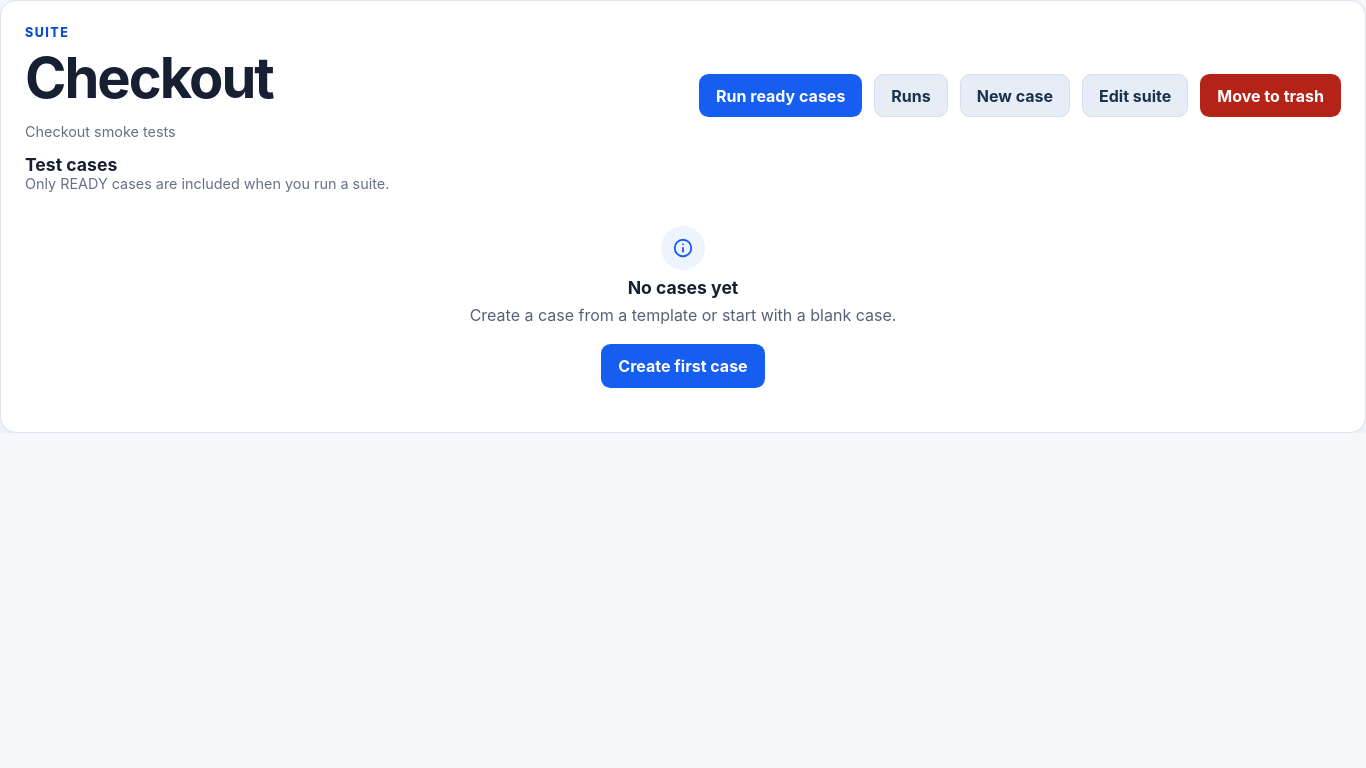
suite recovery surfaces › shows distinct execution_queue_full guidance when a suite run cannot queue
Click the button "Run ready cases" at (781, 96), box [699,74,862,118]
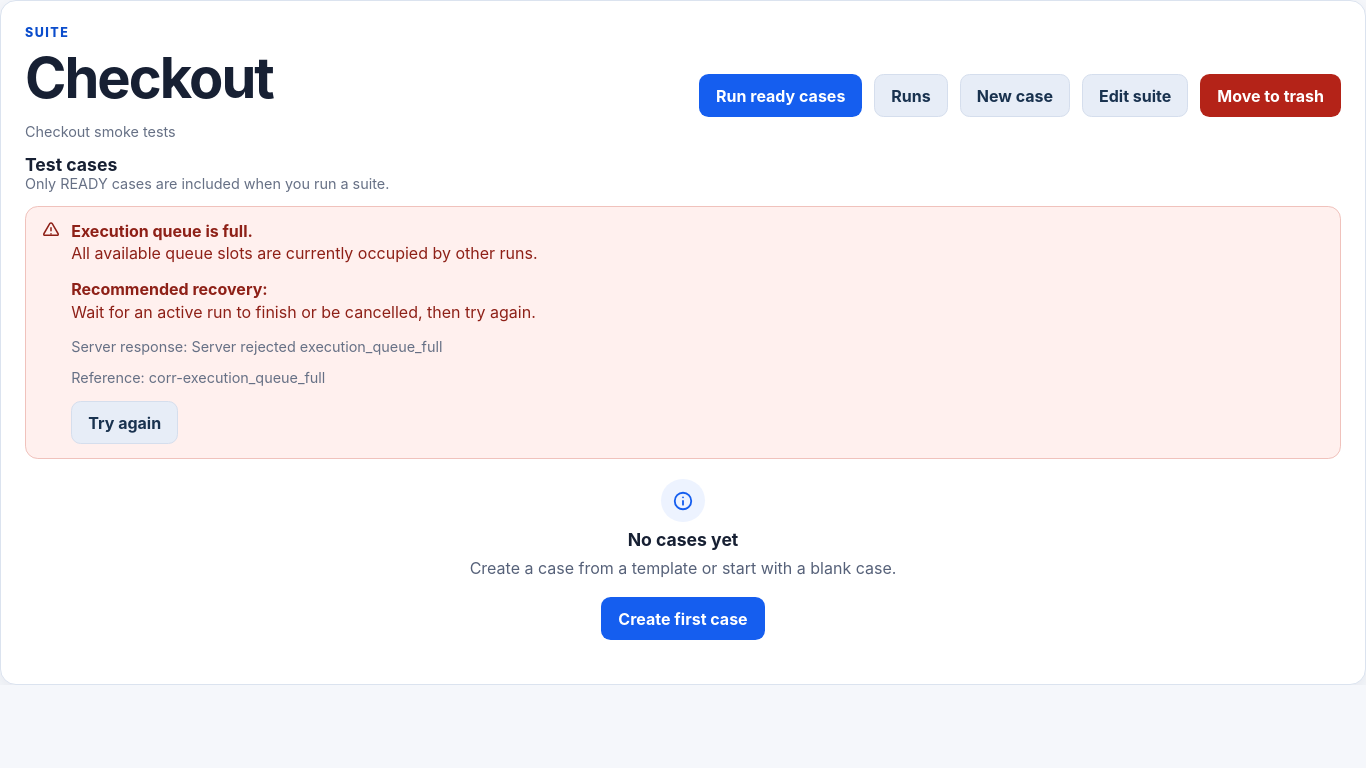
Check: the message shows "Execution queue is full.", box [71,221,253,241]
Check: the message shows "Wait for an active run to finish or be cancelled", box [71,302,536,322]
Check: the button "Try again" is shown, box [71,401,178,444]
